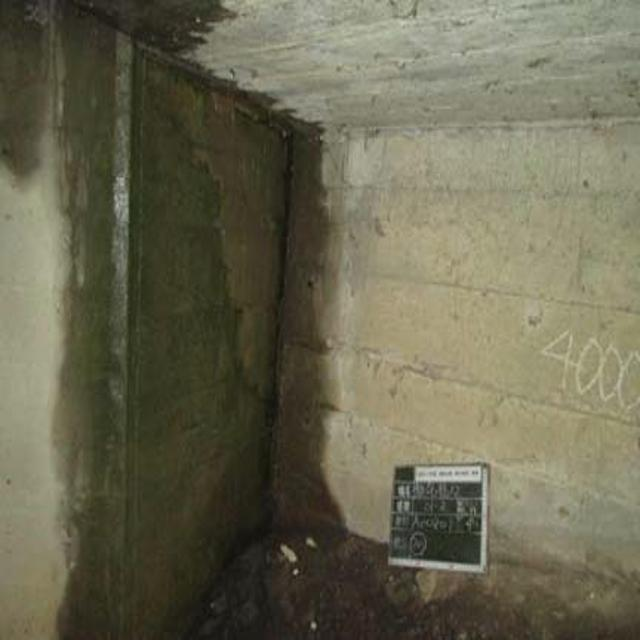leakage: (9, 3, 350, 617)
